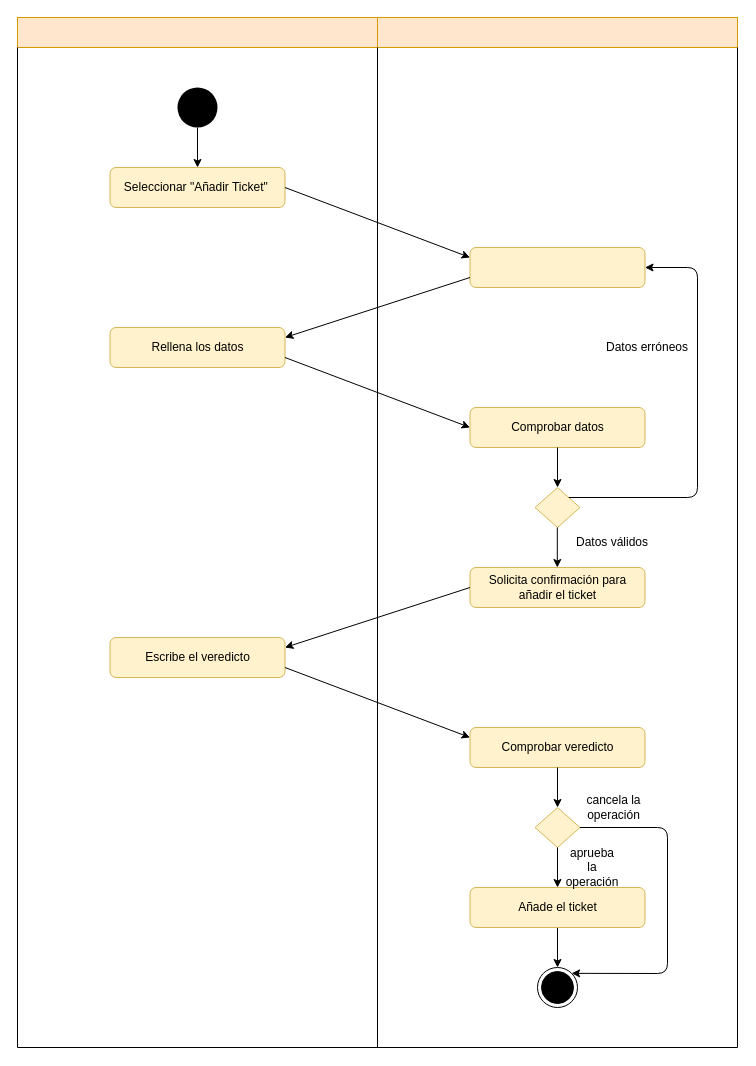
The diagram is 756 pixels wide and 1066 high, and some of its shapes have lost their labels. The shapes that lost their labels are listed below. From the top down, each one's centre as x and y in pixels, then its label:
the point at 197,32: Administrador
the point at 557,32: Sistema
the point at 557,267: Solicita datos a rellenar
